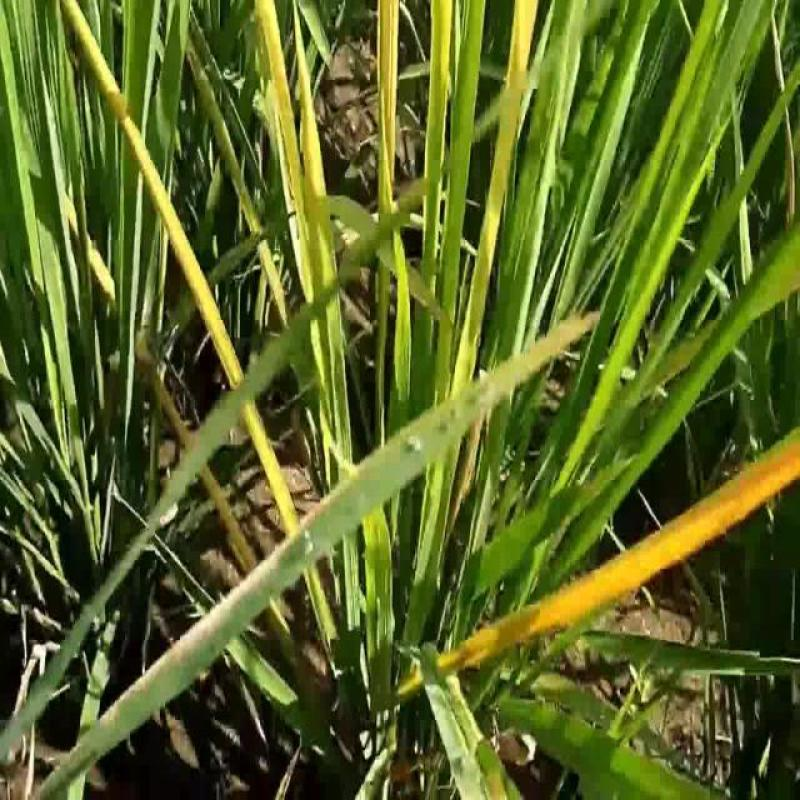Rice Tungro: (440, 420, 800, 686), (62, 4, 240, 384), (449, 2, 541, 378), (251, 2, 339, 310), (370, 4, 400, 281)
